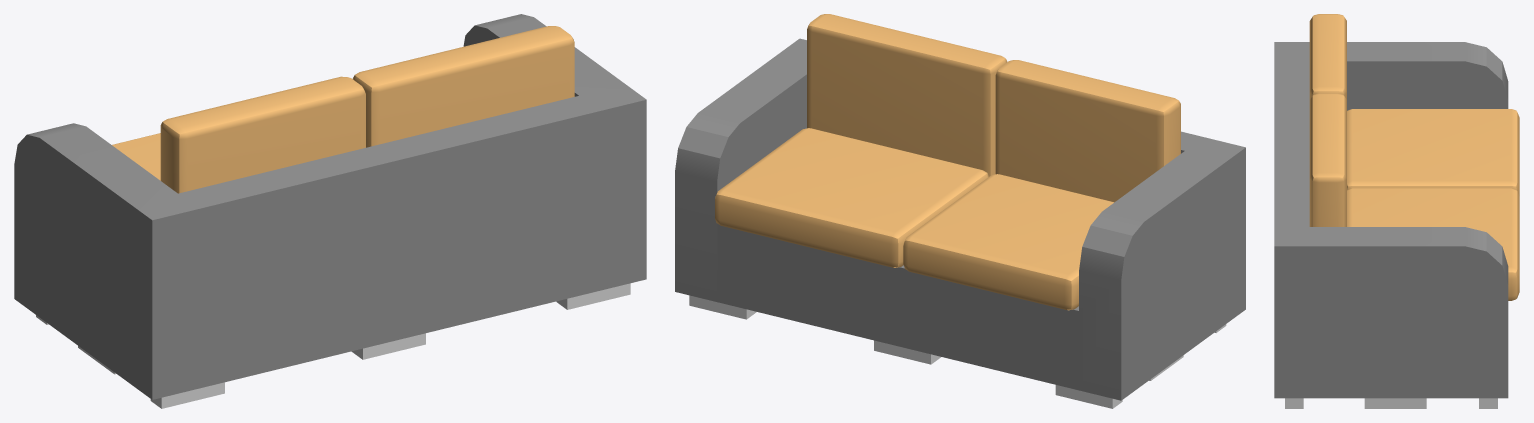
Rendered from Canape.fbx.
The picture shows the model from 3 angles, left to right: view 1: azimuth 30°, elevation 25°; view 2: azimuth 150°, elevation 25°; view 3: azimuth 270°, elevation 25°; orthographic projection. The views are drawn at different scales.
Parts seen in each view (by area): view 1: pCube3, pasted__pCube4 (×2), pasted__pasted__pCube4, pasted__pasted__pCube2, pasted__pCube2, pasted__pasted__pasted__pCube2; view 2: pCube3, pasted__pCube4 (×2), pCube4, pasted__pasted__pCube4, pCube2, pasted__pCube2, pasted__pasted__pCube2; view 3: pCube3, pasted__pCube4 (×2), pCube4, pasted__pasted__pCube4, pasted__pasted__pCube2.
Boxes of the visible parts, bbox=[...] form: pCube3: bbox=[14, 14, 646, 399]; pasted__pCube4 (×2): bbox=[112, 26, 574, 180]; pasted__pasted__pCube4: bbox=[160, 76, 365, 193]; pasted__pasted__pCube2: bbox=[556, 283, 630, 309]; pasted__pCube2: bbox=[150, 382, 224, 408]; pasted__pasted__pasted__pCube2: bbox=[351, 333, 425, 359]; pCube3: bbox=[675, 38, 1245, 400]; pasted__pCube4 (×2): bbox=[807, 14, 1113, 310]; pCube4: bbox=[715, 128, 988, 267]; pasted__pasted__pCube4: bbox=[995, 60, 1180, 202]; pCube2: bbox=[1055, 385, 1122, 408]; pasted__pCube2: bbox=[689, 295, 756, 319]; pasted__pasted__pCube2: bbox=[874, 340, 940, 364]; pCube3: bbox=[1274, 42, 1508, 398]; pasted__pCube4 (×2): bbox=[1309, 93, 1519, 226]; pCube4: bbox=[1347, 188, 1519, 300]; pasted__pasted__pCube4: bbox=[1309, 14, 1346, 99]; pasted__pasted__pCube2: bbox=[1364, 398, 1426, 408].
Bounding box in the file's own units: 3.64 × 1.8 × 1.85.
